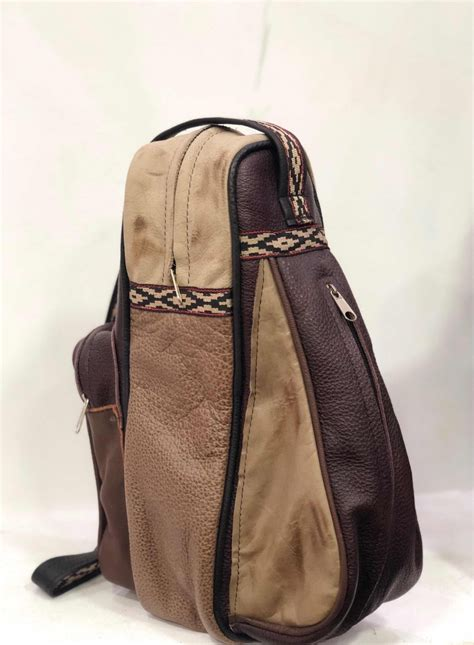cuero: (74, 111, 424, 645)
